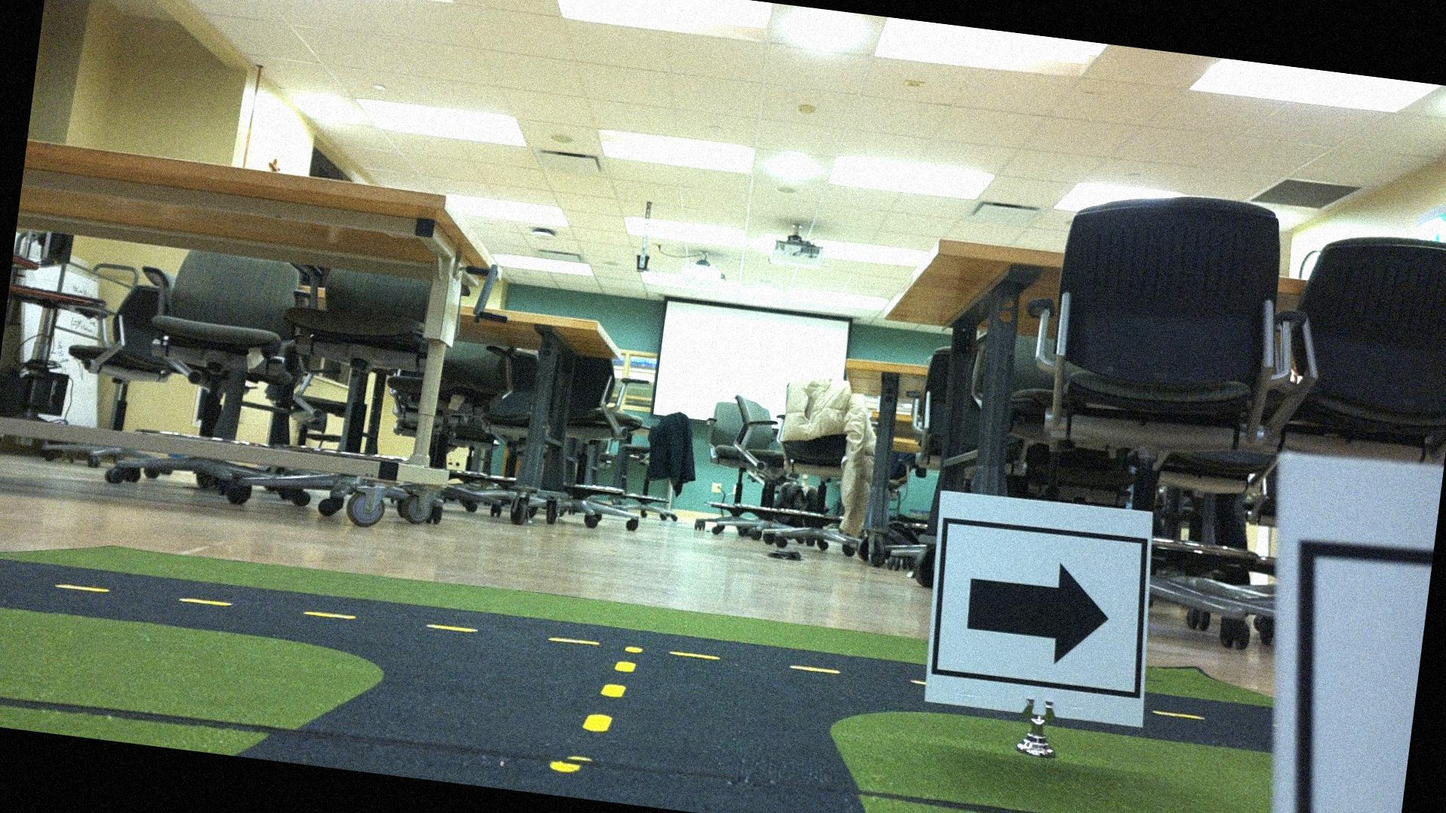turnleft: (926, 495, 1157, 724)
yellowline: (51, 571, 837, 684), (581, 632, 645, 738)
